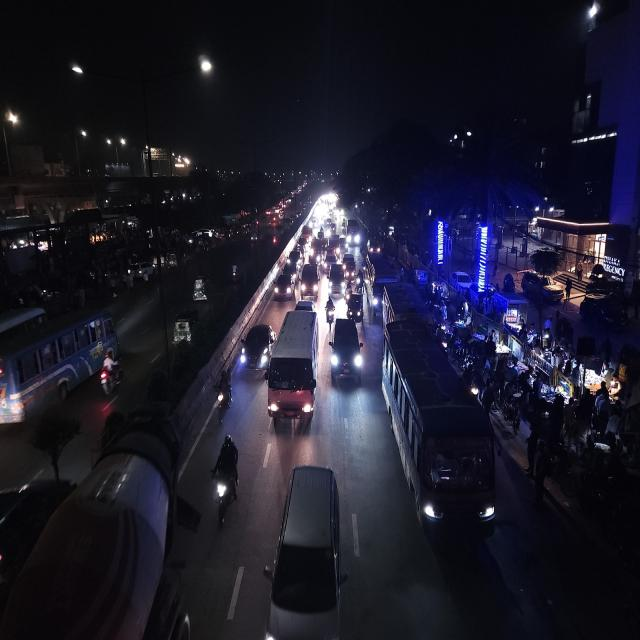bus: (381, 320, 497, 547), (0, 303, 122, 427), (268, 306, 320, 432), (364, 252, 400, 313), (345, 218, 361, 248)
car: (264, 459, 348, 640), (0, 466, 74, 638), (328, 315, 364, 388), (236, 320, 274, 378), (298, 259, 320, 300), (272, 265, 296, 301), (328, 264, 346, 300), (450, 268, 472, 297), (286, 245, 303, 268), (342, 253, 357, 277), (301, 224, 314, 244)
cng: (172, 308, 200, 348), (190, 271, 210, 304), (348, 290, 364, 326)
motorcycle: (208, 432, 241, 529), (97, 350, 124, 398), (214, 365, 234, 422), (325, 294, 336, 326)
